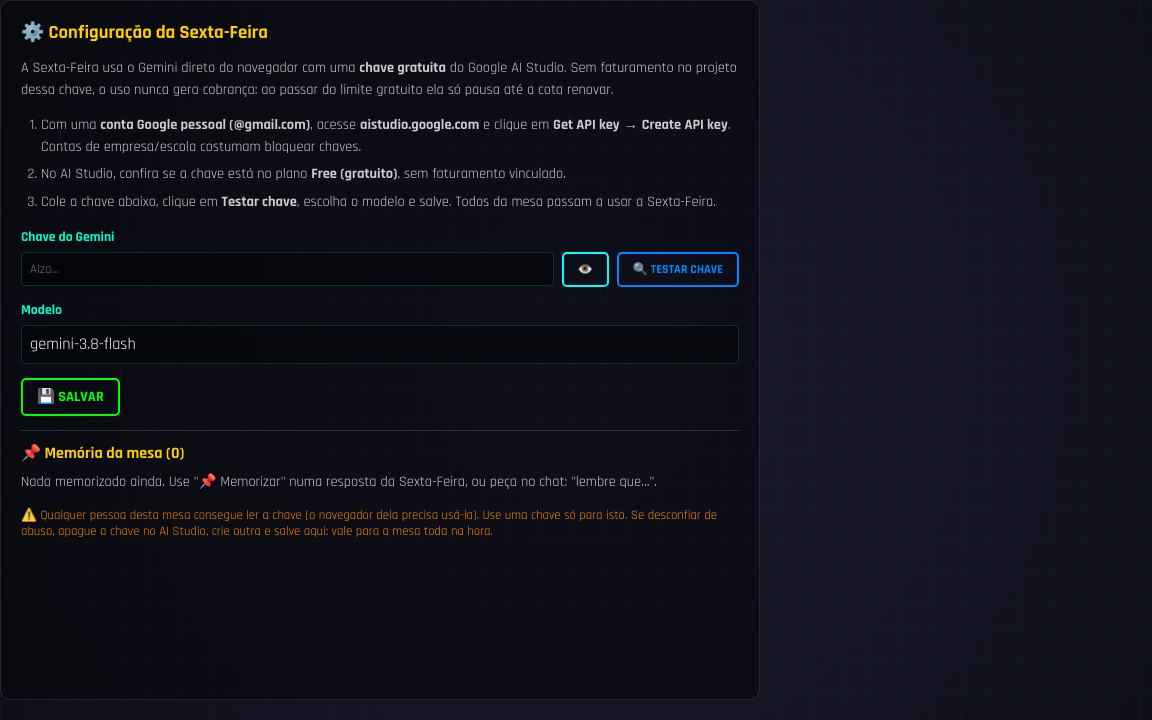
AIConfig › lista vazia mostra aviso e mantem campo de texto
This screenshot has width=1152, height=720.
Type "K" into the password field labelled "Chave do Gemini 👁️ 🔍 Testar chave" at (287, 269), box [21,252,554,286]
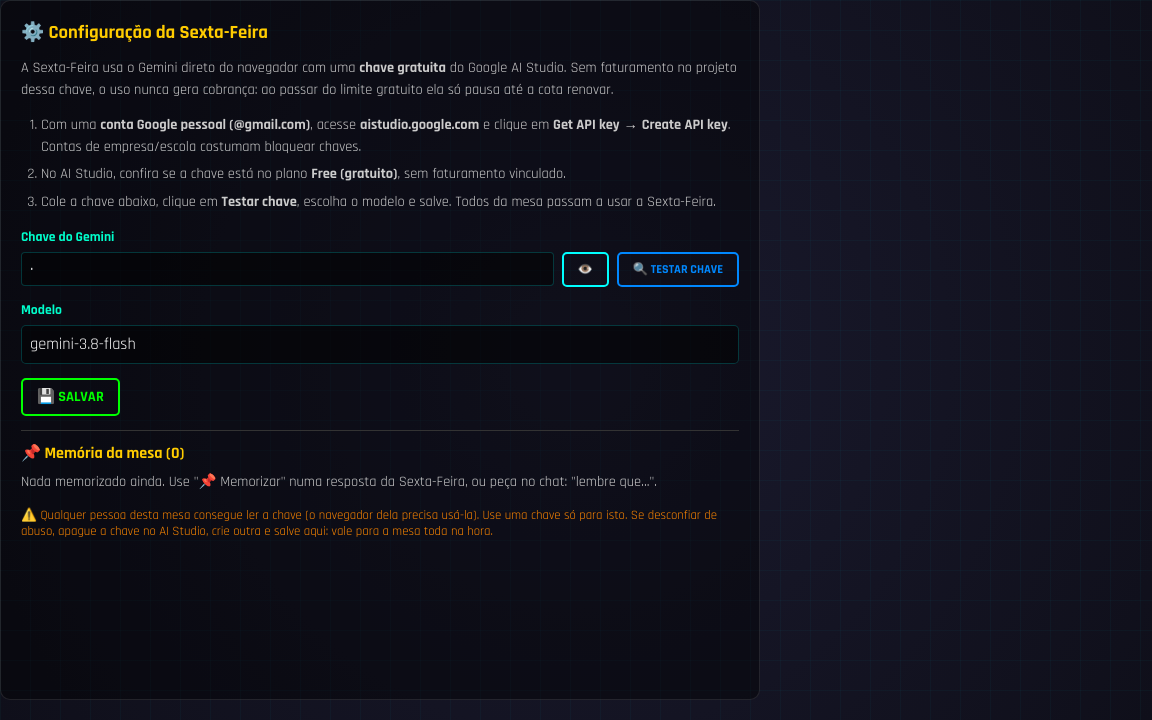
Click the button "🔍 Testar chave" at (678, 269), box [617,252,739,287]
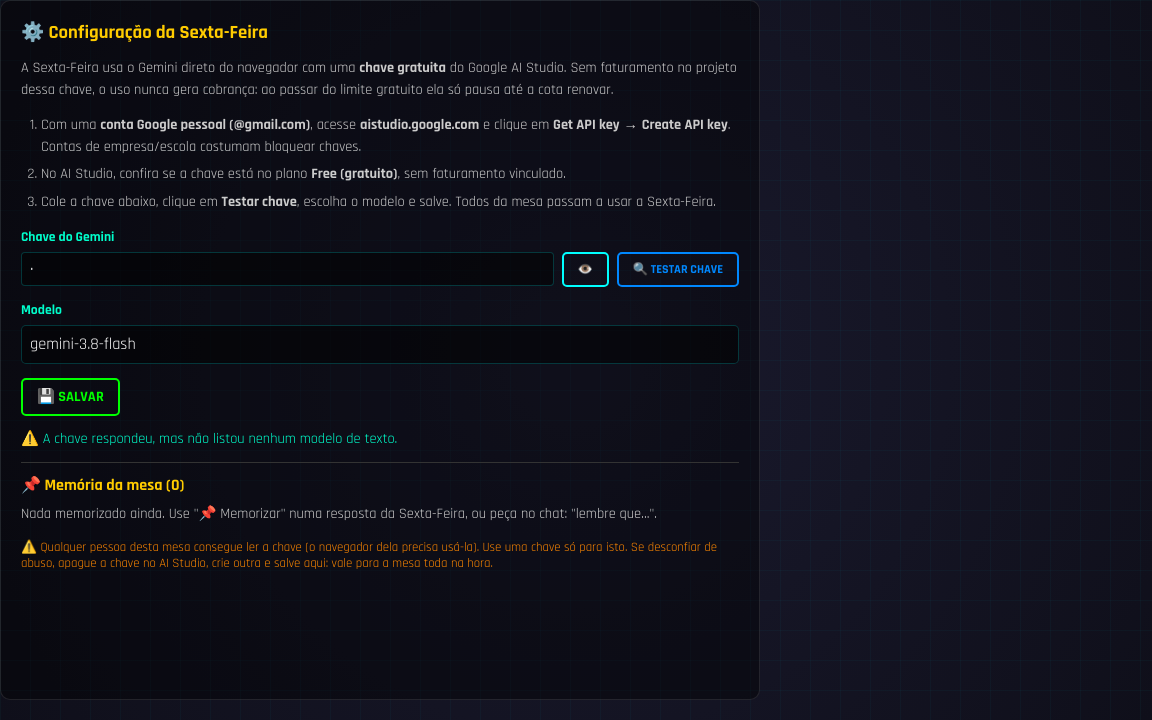
Check: the text "⚠️ A chave respondeu, mas não listou nenhum modelo de texto." is shown, box [21,430,397,448]
